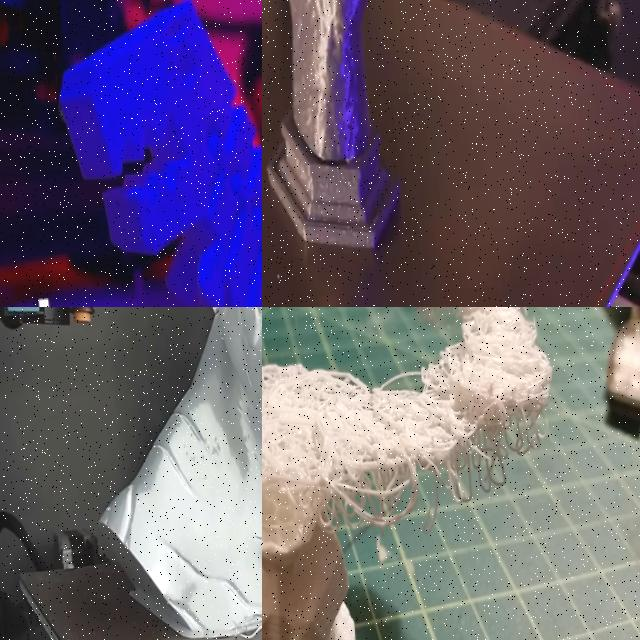spaghetti: (262, 307, 553, 547), (183, 410, 262, 640)
